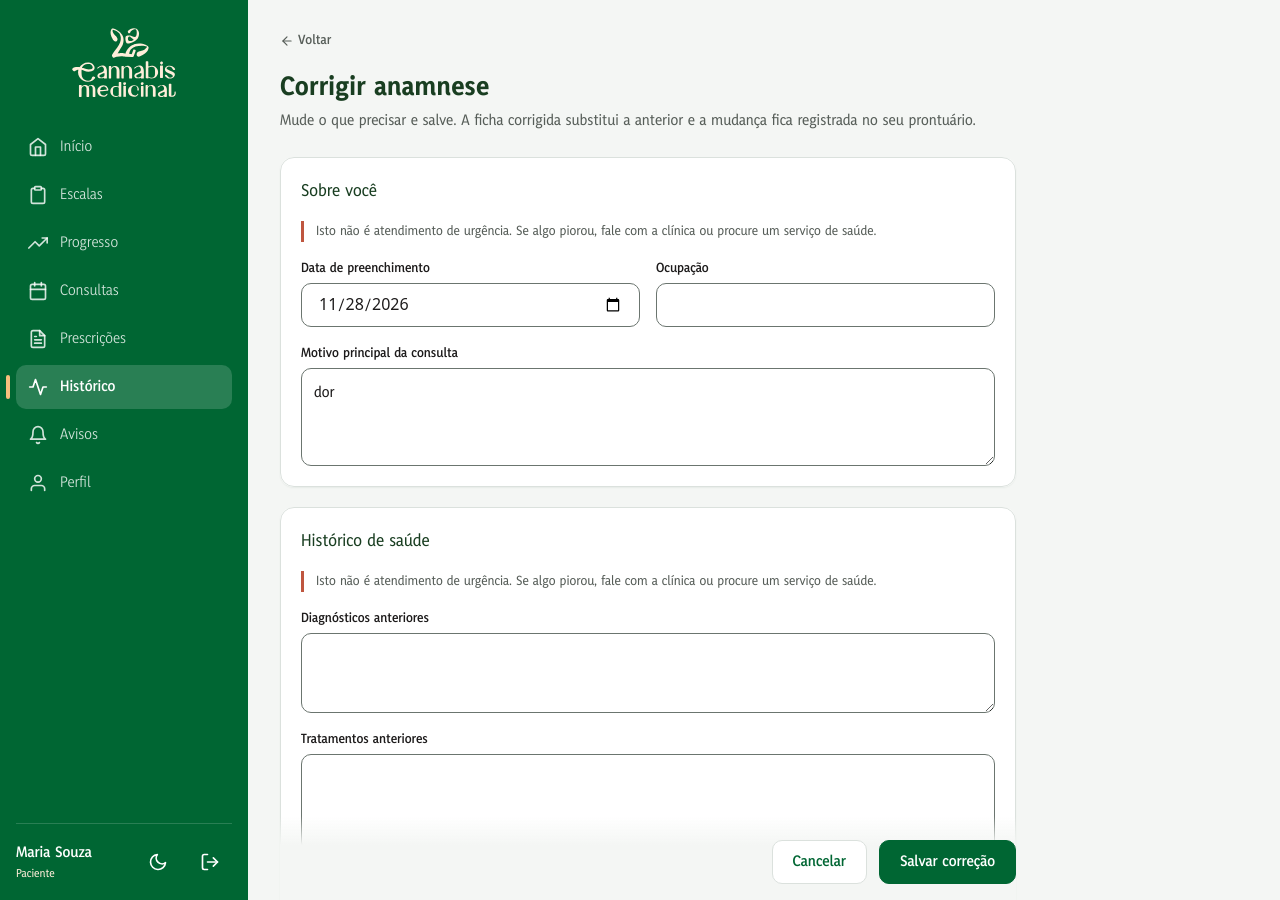
Test: Anamnese › na correcao so a ficha mudada pergunta antes de sair
Type " nas costas" into the text box labelled "Motivo principal da consulta" at [648, 417], box [301,368,995,466]
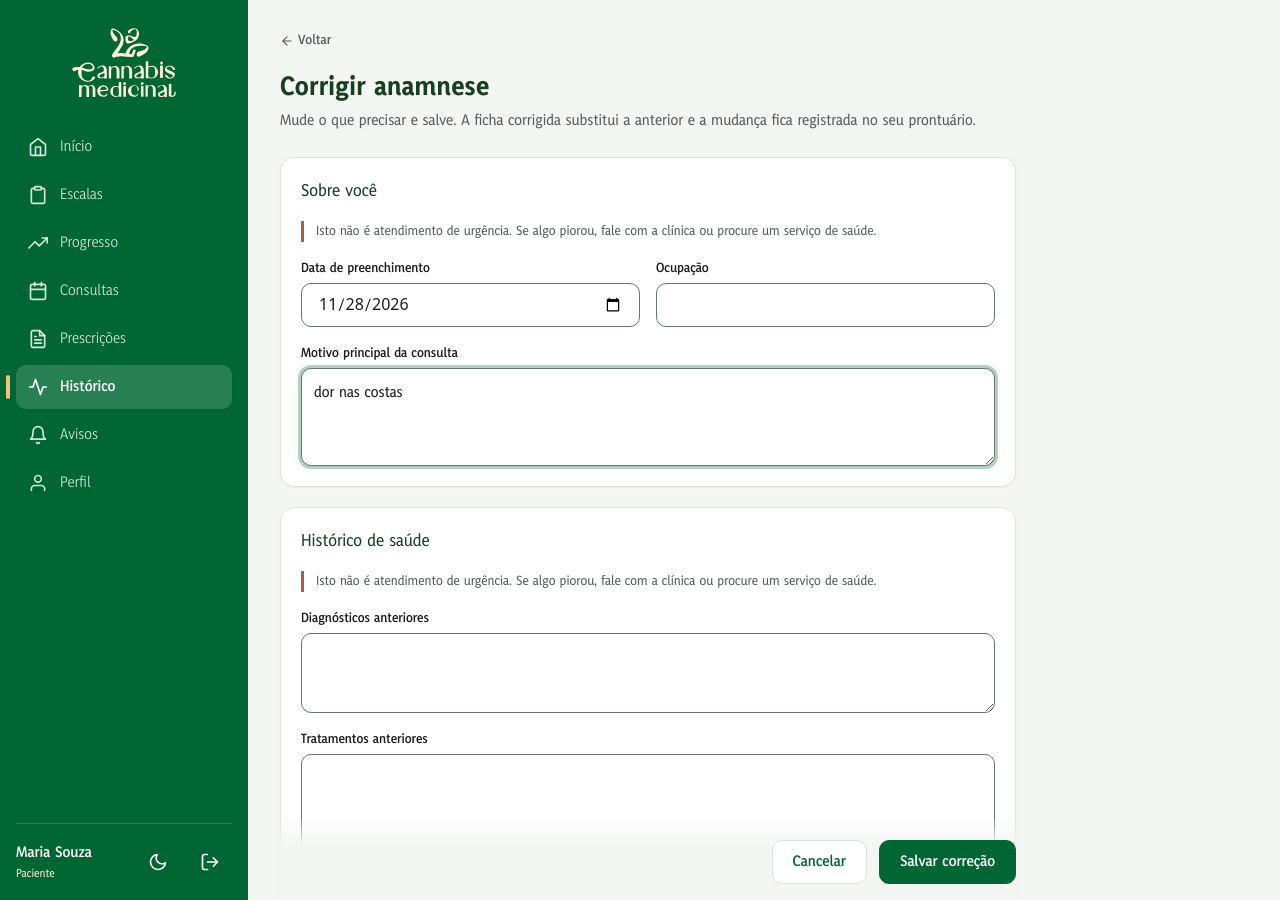
Click the button "Voltar" at [306, 41], box [272,28,339,54]
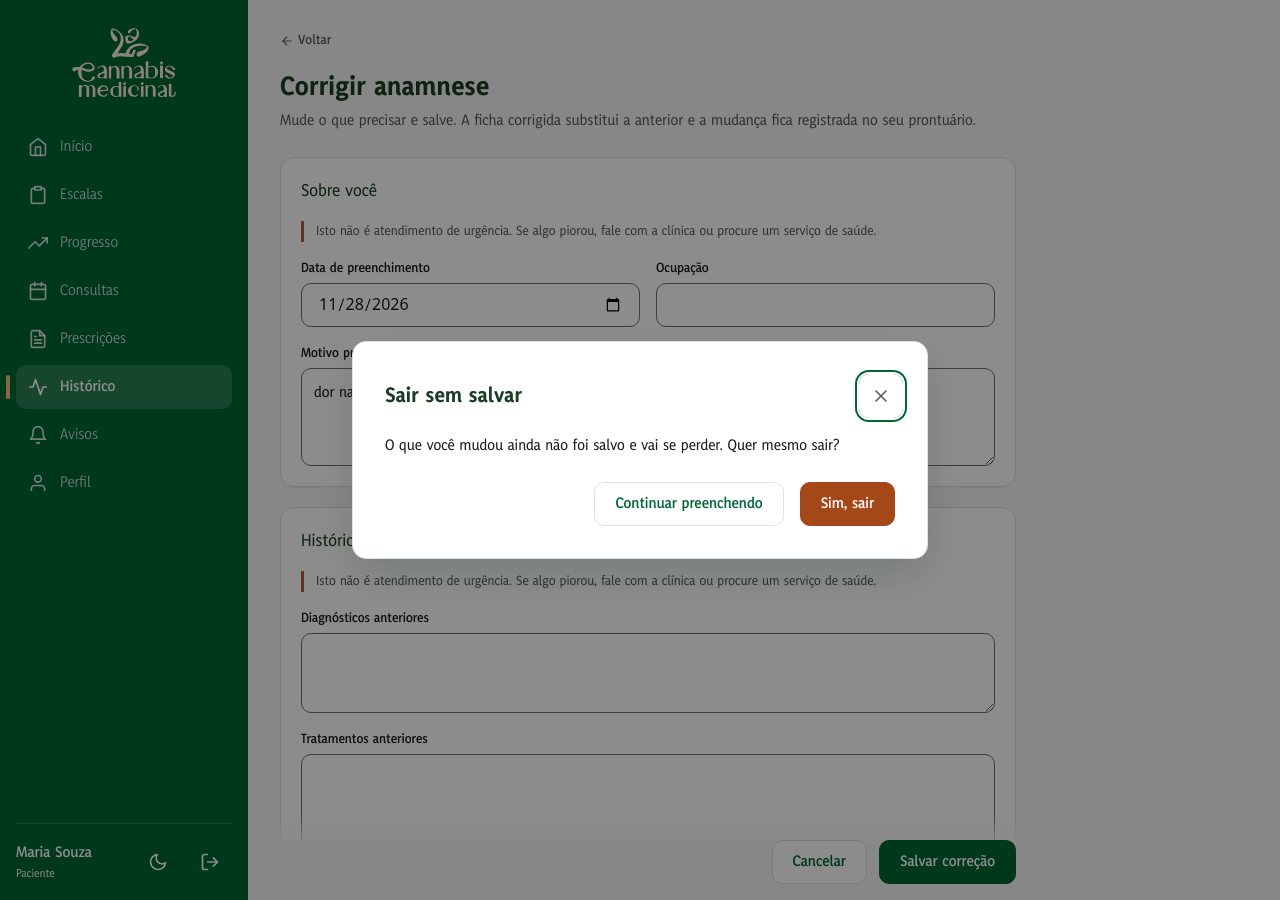
expect the dialog "Sair sem salvar" shows "O que você mudou ainda não foi salvo": met, box [385,435,840,456]
Click the button "Sim, sair" at [847, 504], box [800,482,895,526]
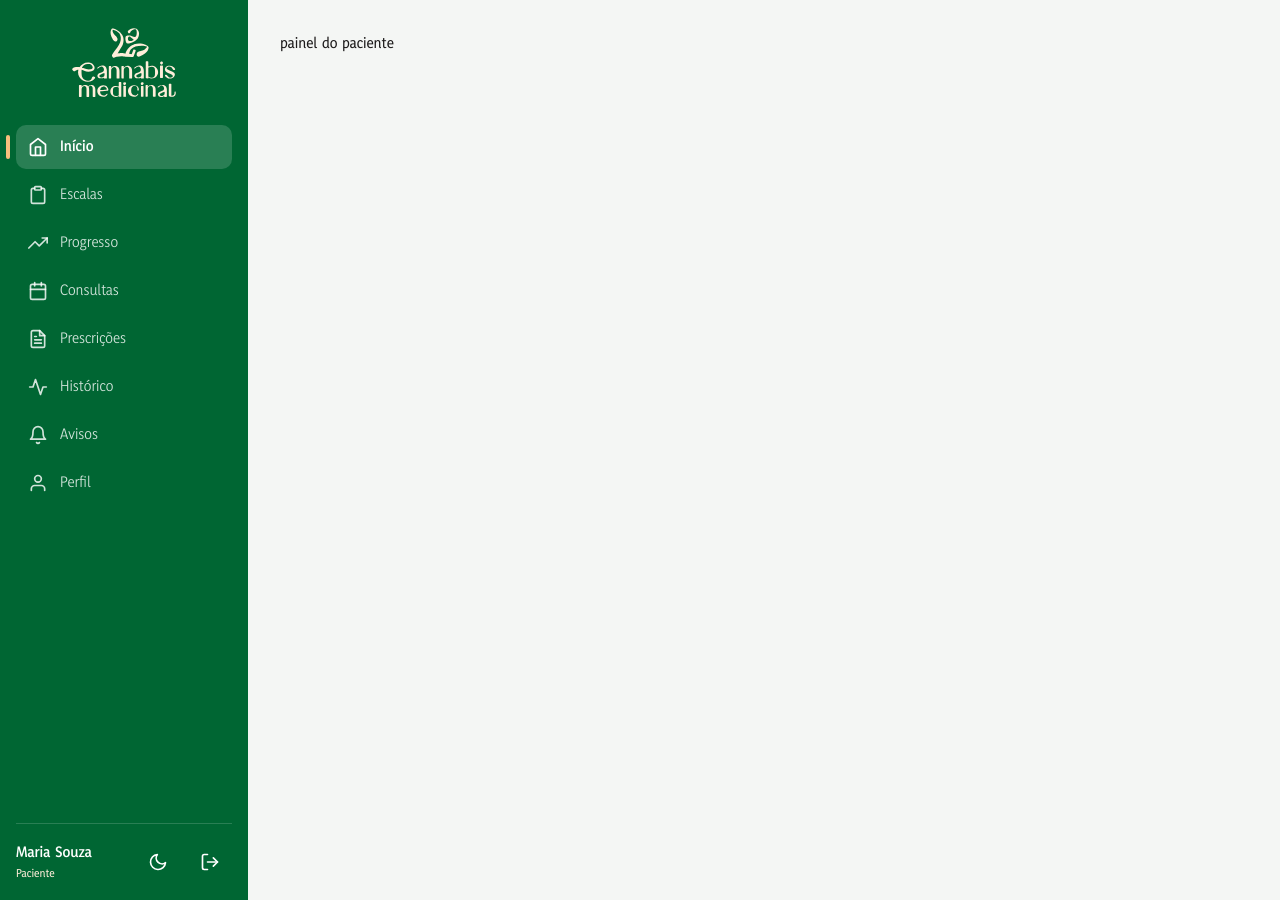
expect the text "painel do paciente" is shown: met, box [280,33,394,54]
